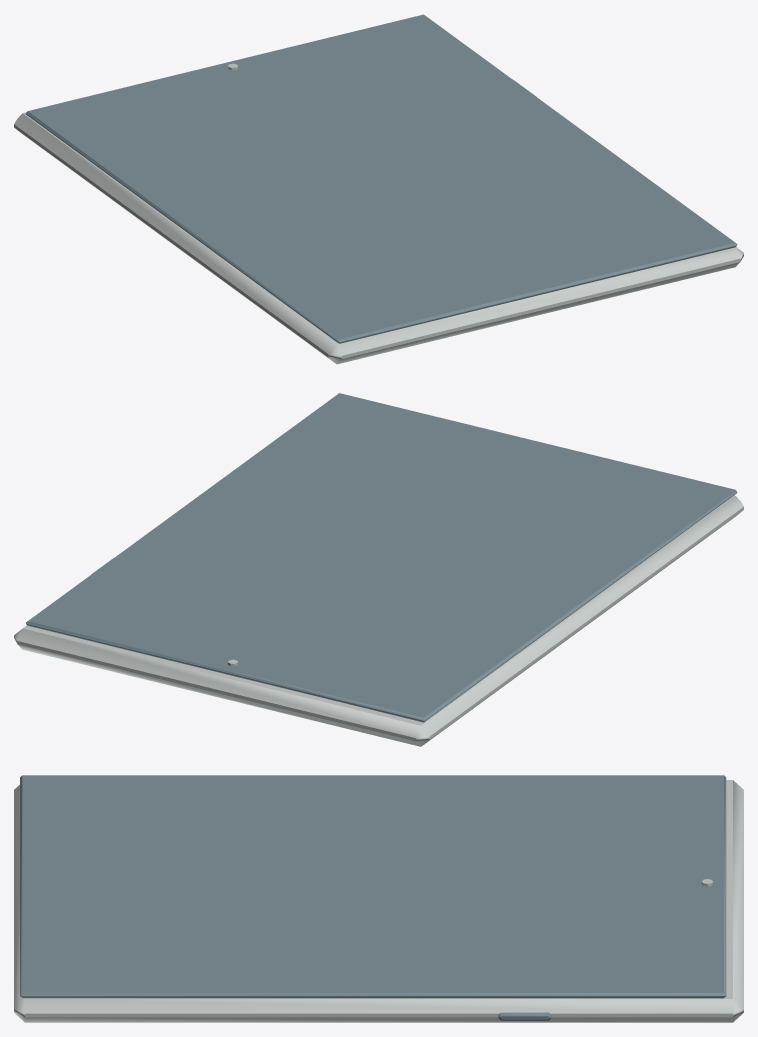
Rendered from tablet.glb.
3 renders of one model, top to bottom at view 1: azimuth 30°, elevation 25°; view 2: azimuth 150°, elevation 25°; view 3: azimuth 270°, elevation 25°, orthographic. The views are drawn at different scales.
Parts seen in each view (by area): view 1: glass_screen, device_body; view 2: glass_screen, device_body; view 3: glass_screen, device_body, power_key.
Boxes of the visible parts, <box> form: glass_screen: <box>26,14,737,343</box>; device_body: <box>14,112,743,364</box>; glass_screen: <box>26,393,737,722</box>; device_body: <box>14,495,743,746</box>; glass_screen: <box>20,775,726,998</box>; device_body: <box>14,780,743,1022</box>; power_key: <box>498,1012,551,1020</box>.
Size of the model in its own units: 0.187 by 0.012 by 0.25.
